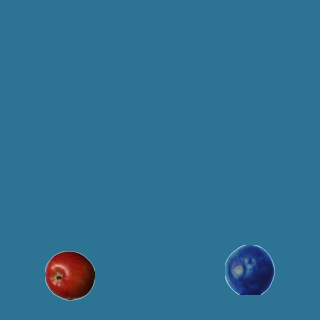Apple Braeburn: (44, 250, 94, 300)
Huckleberry: (224, 244, 274, 294)
